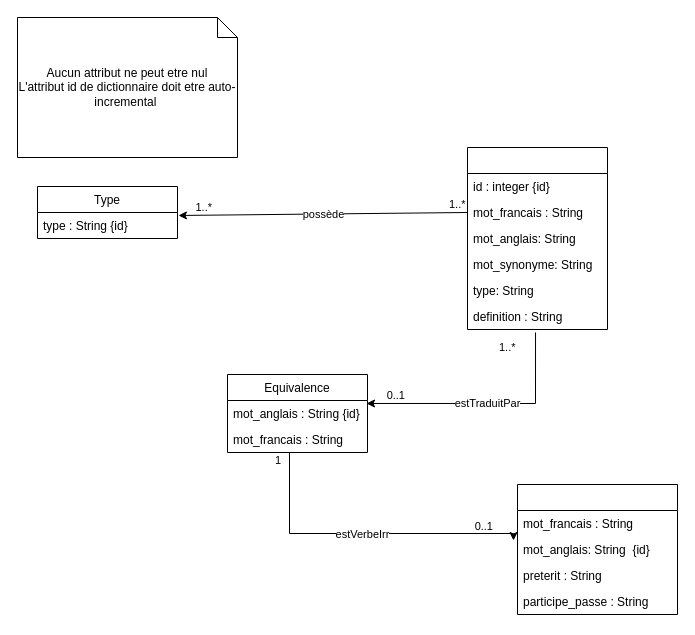
The diagram is 695 pixels wide and 635 high, and some of its shapes have lost their labels. Here are the shapes that lost their labels. From the top down, the box of each, then its label:
(466, 146, 608, 330): Dictionnaire
(516, 484, 678, 614): VerbeIrregulier
